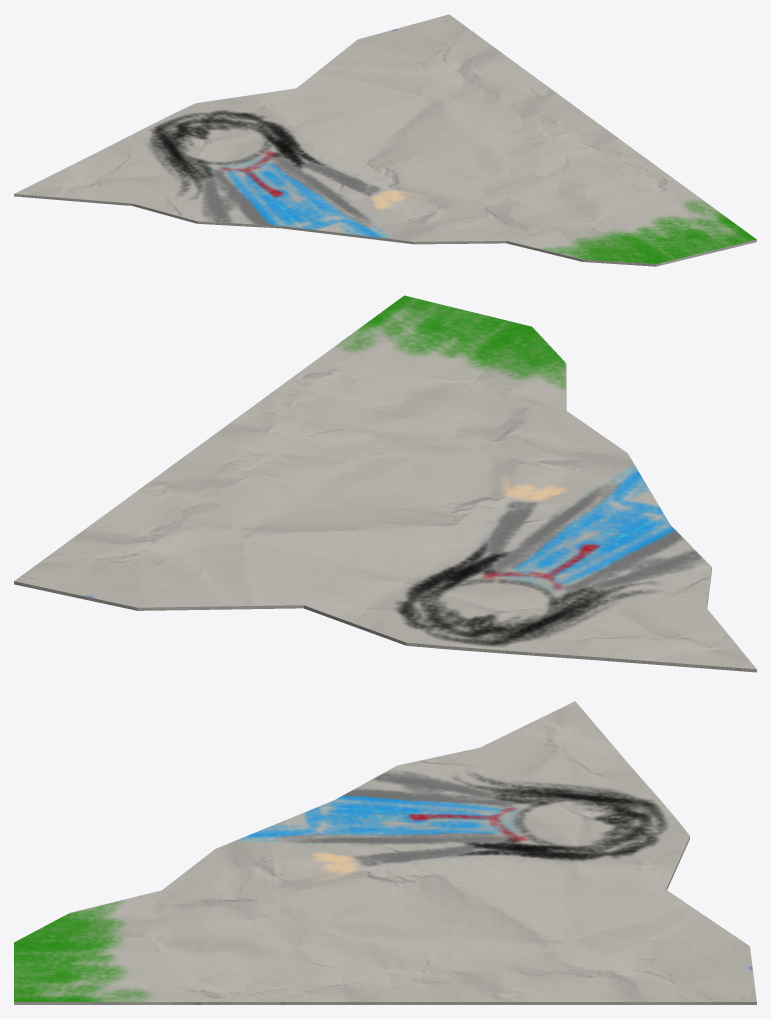
The model's file is DrawingFragments4.fbx.
3 views of the same model, one above another, from view 1: azimuth 30°, elevation 25°; view 2: azimuth 150°, elevation 25°; view 3: azimuth 270°, elevation 25° (orthographic). The views are drawn at different scales.
Visible parts, largest first — view 1: Fragment_4; view 2: Fragment_4; view 3: Fragment_4.
Part boxes in pixels (x1,y1,x2,y2): Fragment_4: [14, 14, 756, 266]; Fragment_4: [14, 295, 756, 672]; Fragment_4: [14, 701, 756, 1004].
Size of the model in its own units: 261 by 1.22 by 272.
